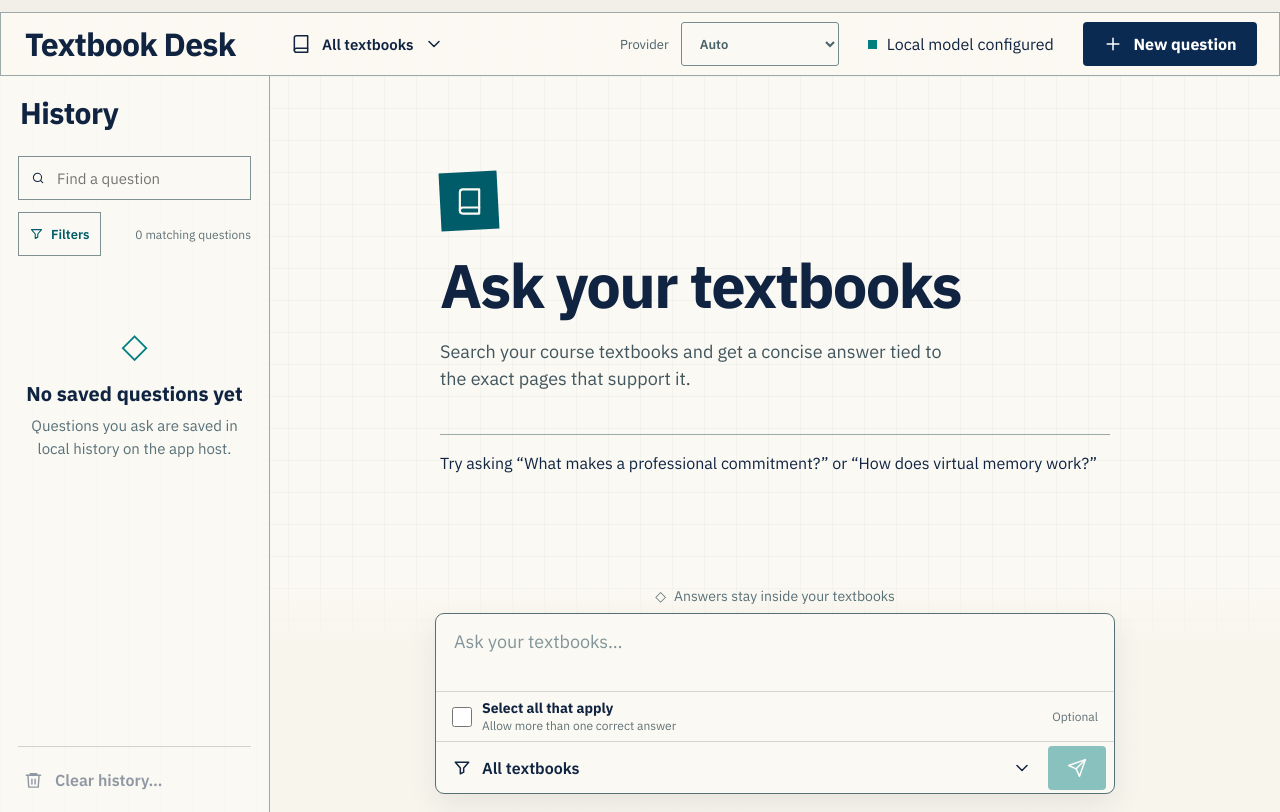
it: Textbook Desk › renders insufficient evidence as a distinct non-error state
The image size is (1280, 812).
Type "What is the weather tomorrow?" into the text box with placeholder "Ask your textbooks…" at (775, 650), box [436,614,1114,687]
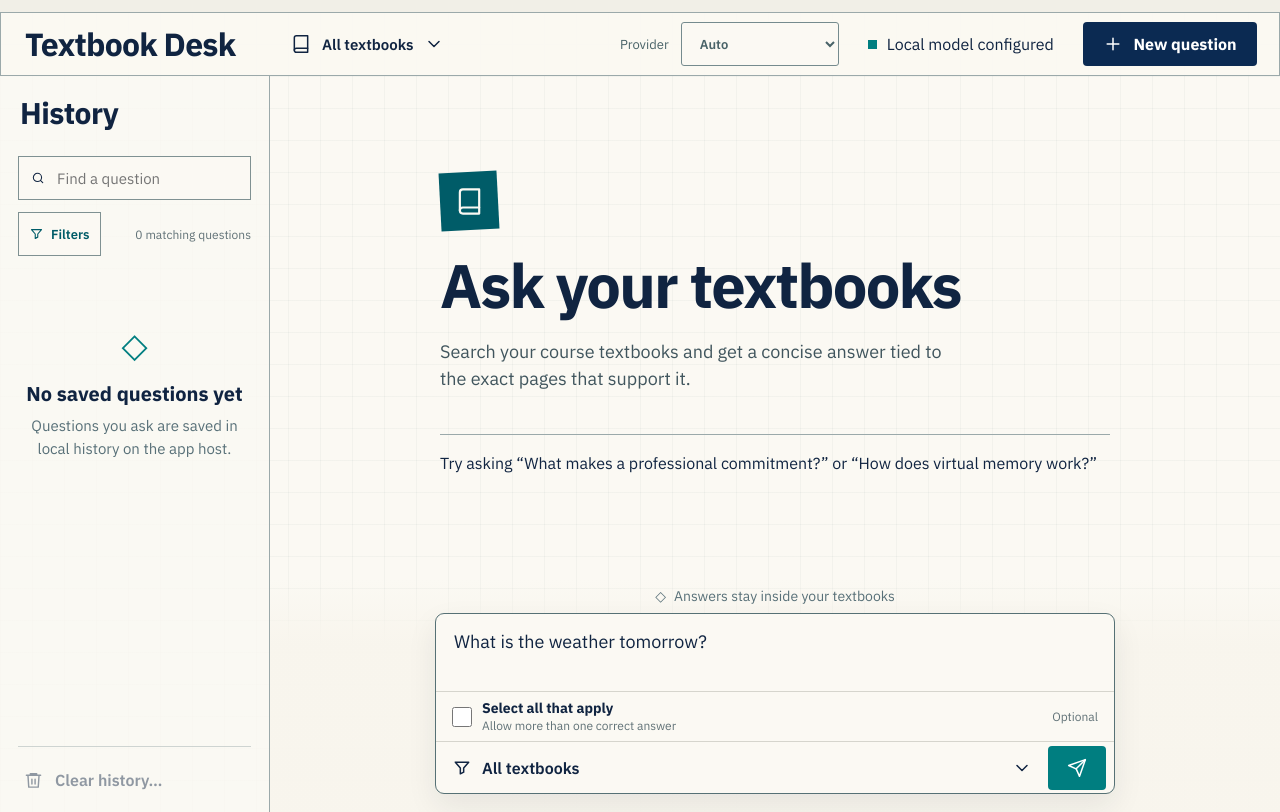
Click the button named "Ask question" at (1077, 768), box [1048,746,1106,790]
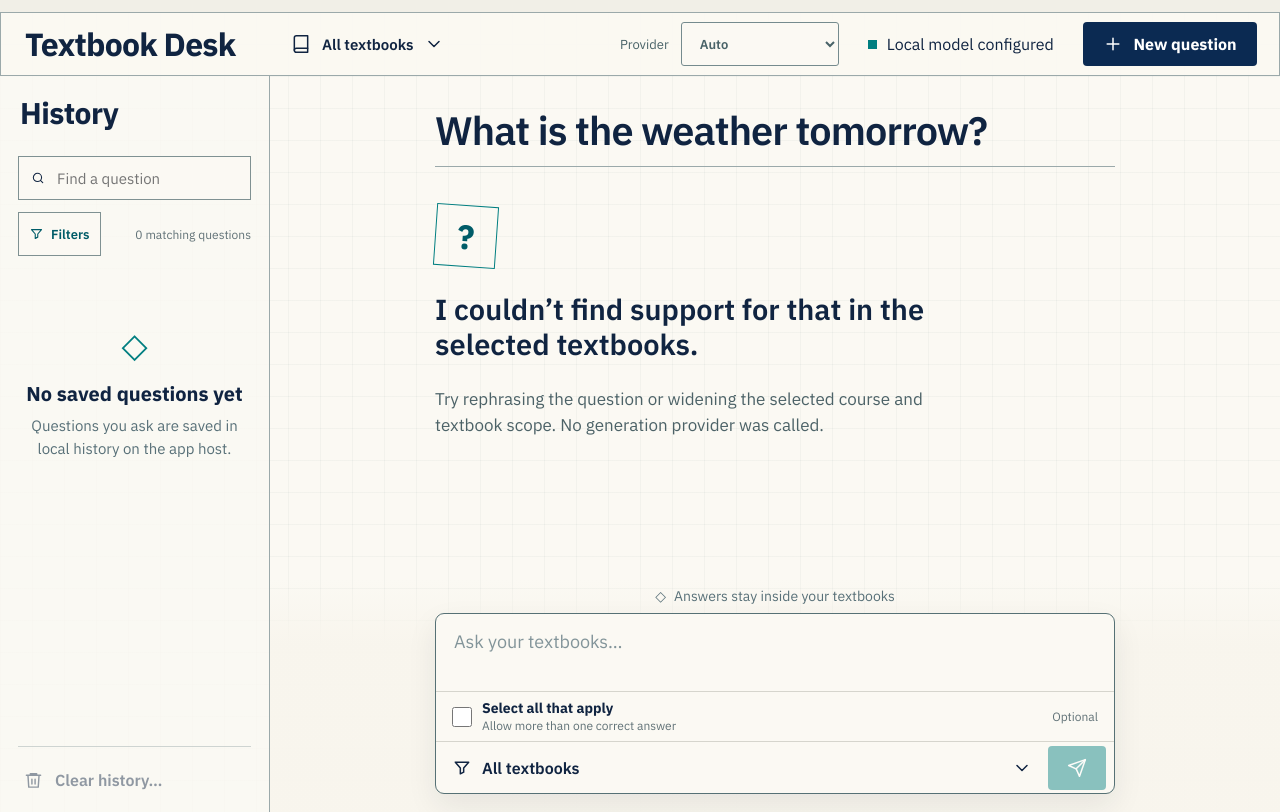
expect the heading "I couldn’t find support for that in the selected textbooks." is shown: met, box [435,292,965,362]
expect the text "No generation provider was called" is shown: met, box [435,388,923,436]
